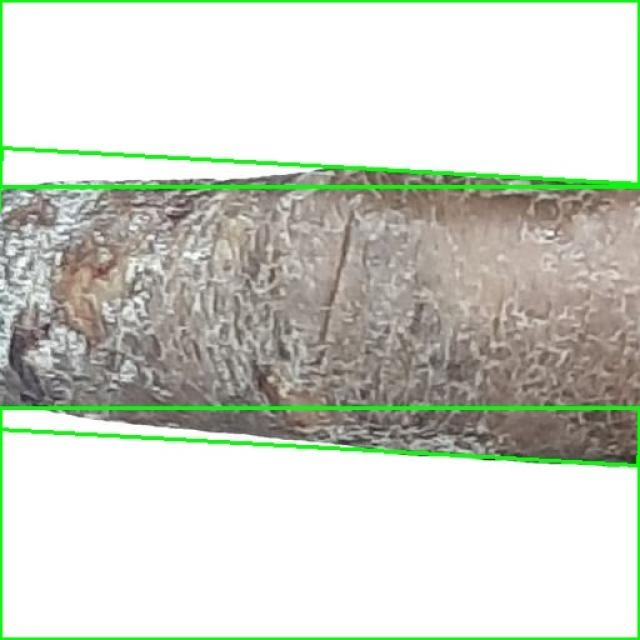Eczema: (0, 148, 640, 466), (0, 408, 639, 639), (0, 0, 639, 186)
